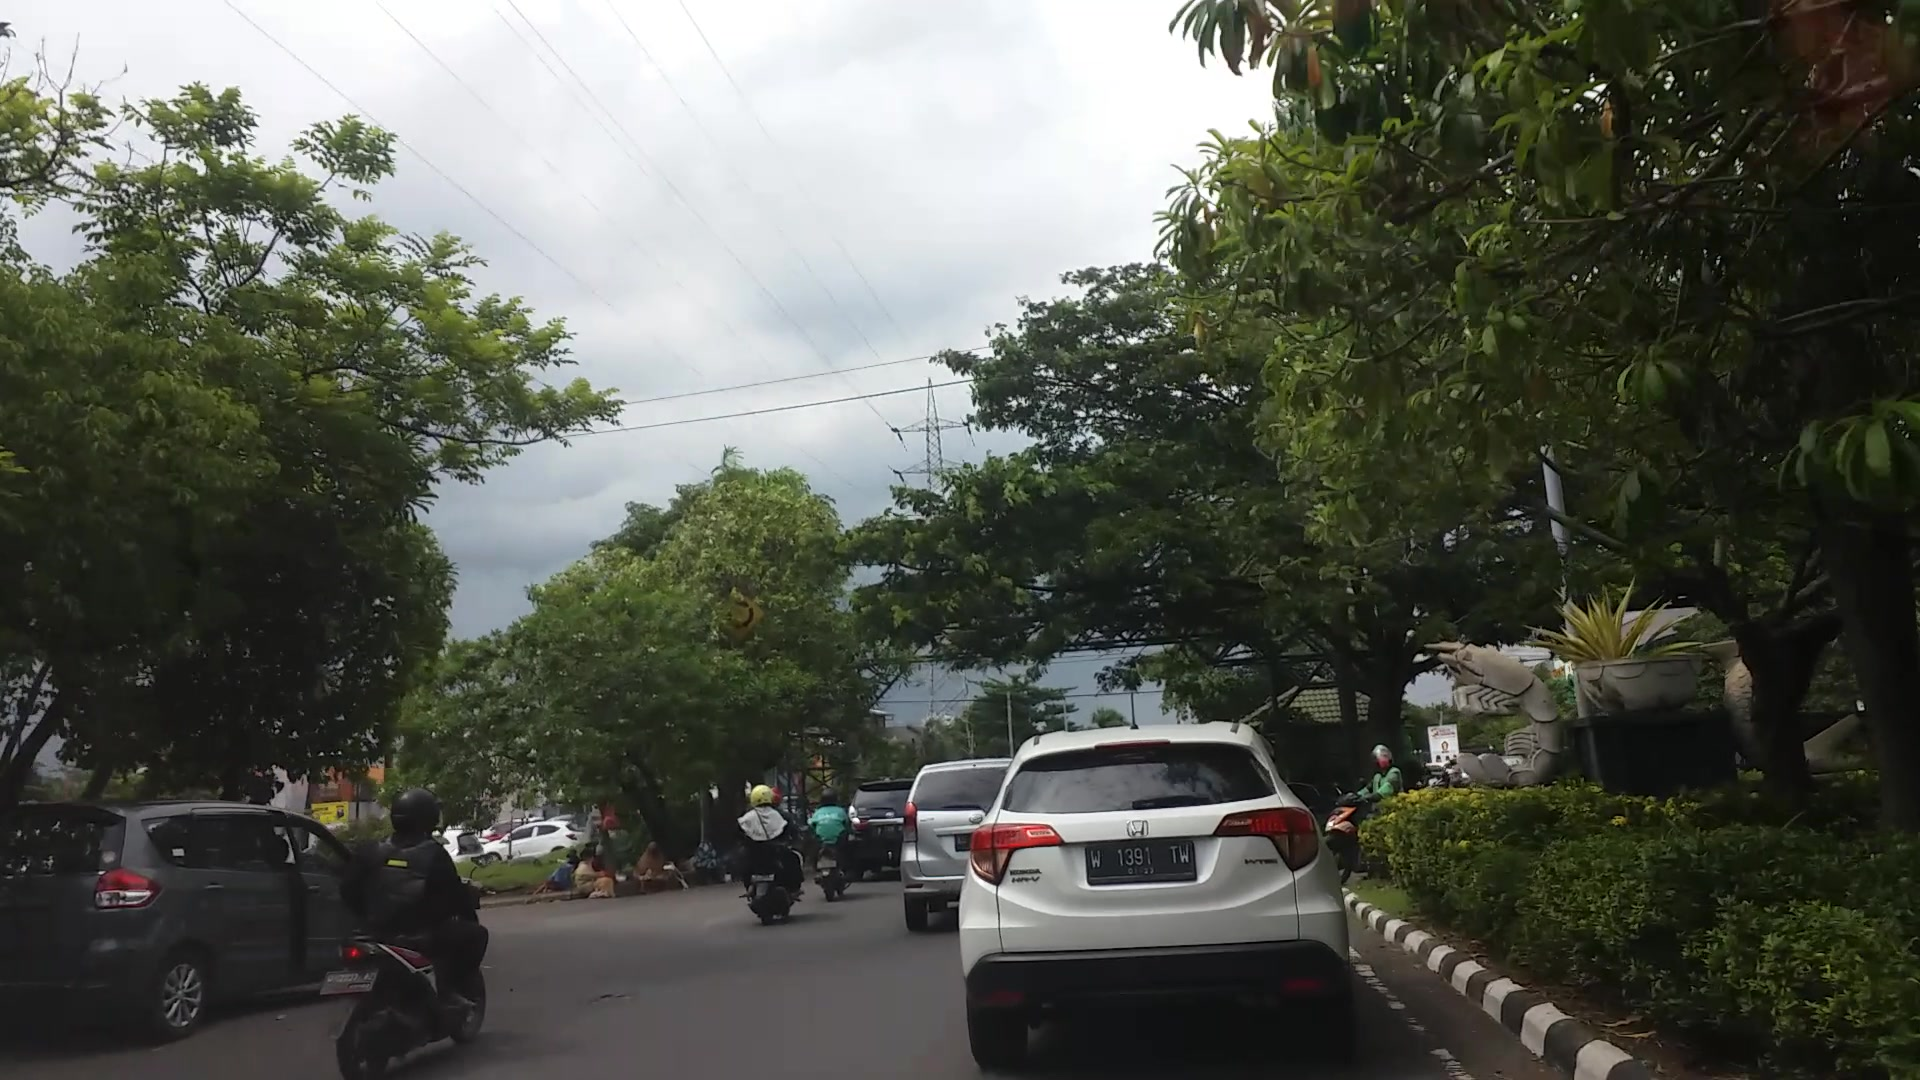plate_positive: (1085, 841, 1196, 882)
